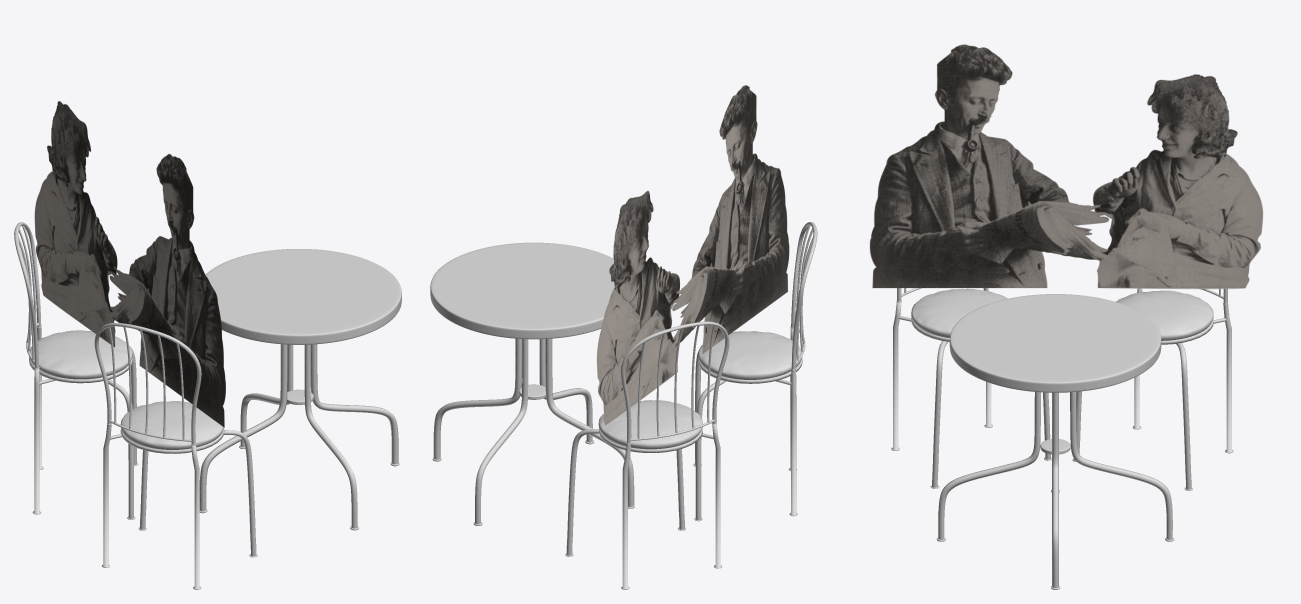
Rendered from parnass.glb.
3 renders of one model, left to right at view 1: azimuth 30°, elevation 25°; view 2: azimuth 150°, elevation 25°; view 3: azimuth 270°, elevation 25°, orthographic. The views are drawn at different scales.
Visible parts, largest first — view 1: Parnass_Eltern_frei, NurbsPath.007, NurbsPath.008, NurbsPath.001; view 2: Parnass_Eltern_frei, NurbsPath.007, NurbsPath.001, NurbsPath.008; view 3: Parnass_Eltern_frei, NurbsPath.007, NurbsPath.001, NurbsPath.008.
Boxes of the visible parts, box(x1,y1,x2,y2) form: Parnass_Eltern_frei: box(34, 101, 225, 427); NurbsPath.007: box(199, 249, 401, 530); NurbsPath.008: box(94, 323, 257, 589); NurbsPath.001: box(14, 222, 138, 519); Parnass_Eltern_frei: box(597, 85, 789, 425); NurbsPath.007: box(430, 242, 634, 525); NurbsPath.001: box(565, 321, 729, 589); NurbsPath.008: box(693, 222, 817, 521); Parnass_Eltern_frei: box(870, 44, 1262, 289); NurbsPath.007: box(936, 294, 1174, 589); NurbsPath.001: box(1072, 288, 1233, 490); NurbsPath.008: box(891, 288, 1051, 488).
Bounding box in the file's own units: 1.34 × 1.64 × 1.47.
Materials: 2 (1 with a texture image).
